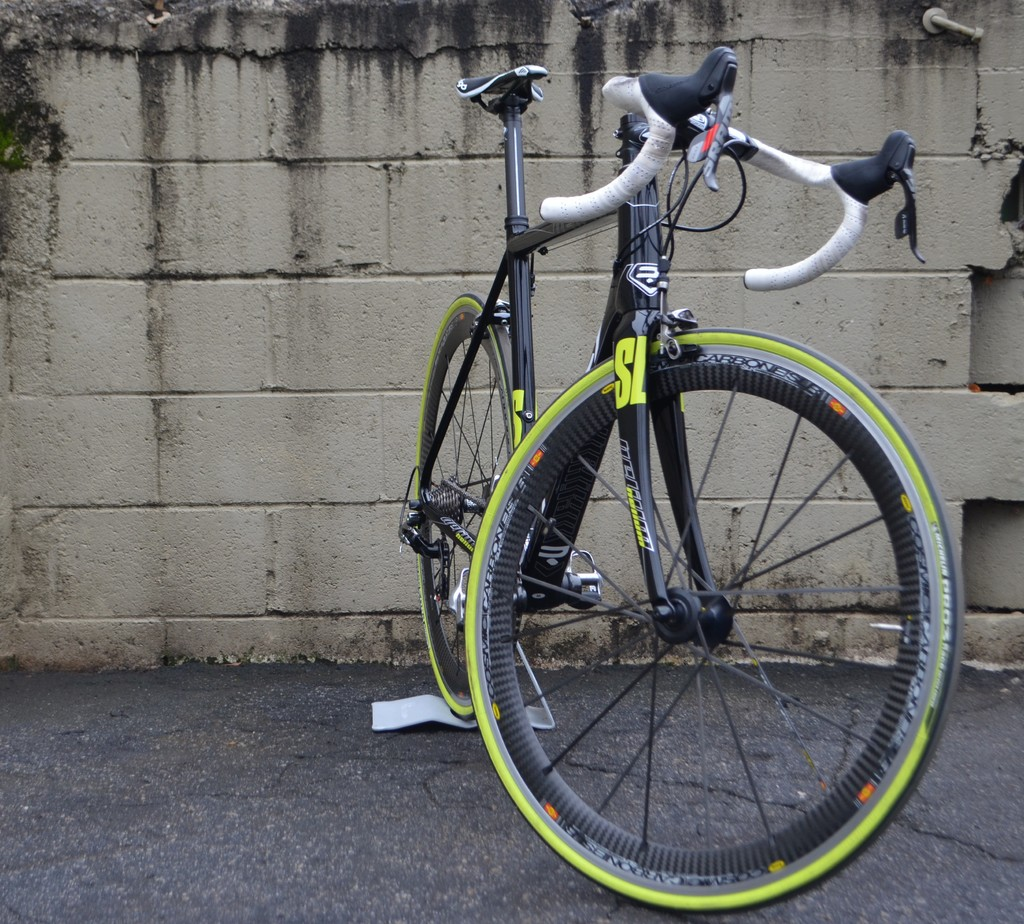Bike_toward: (388, 68, 1024, 866)
